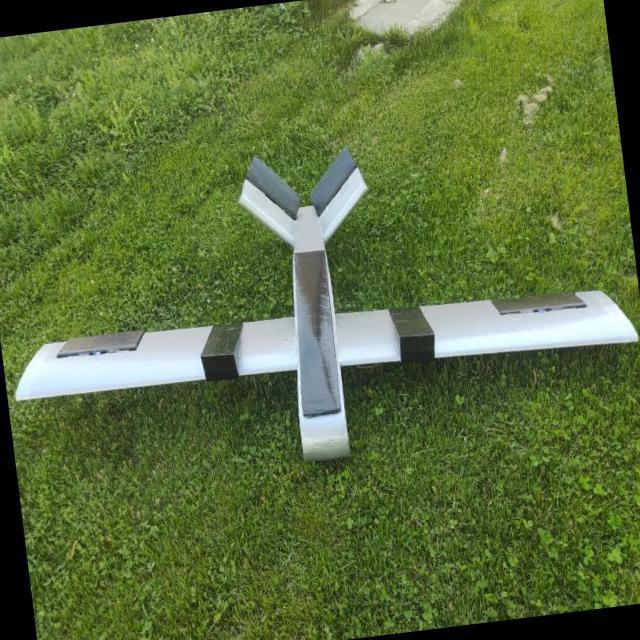iha: (5, 121, 640, 520)
